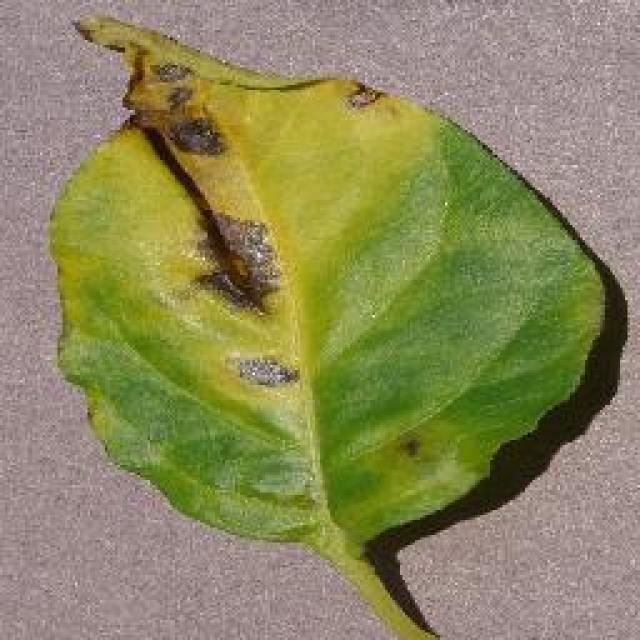Chilli_Bacterial_Spot: (42, 10, 628, 638), (68, 10, 302, 398), (70, 10, 230, 162), (120, 50, 230, 160), (190, 210, 285, 318), (192, 265, 270, 317), (165, 112, 227, 160), (230, 352, 300, 390), (343, 80, 385, 112), (150, 58, 192, 88), (160, 83, 195, 115), (393, 432, 425, 462)
